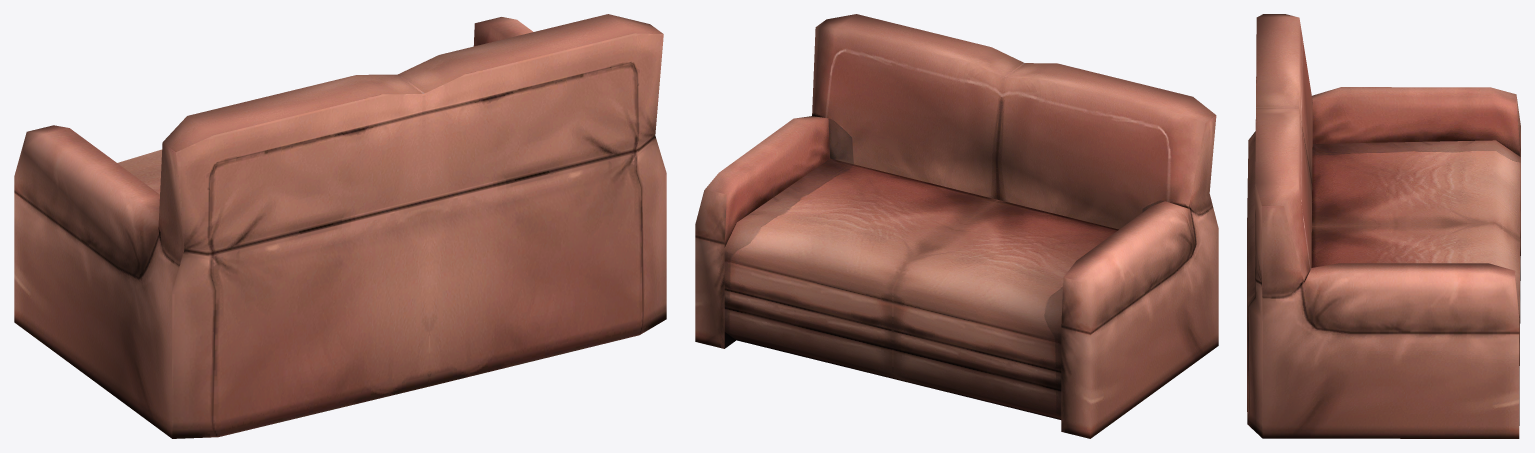
3 views of the same model, side by side, from view 1: azimuth 30°, elevation 25°; view 2: azimuth 150°, elevation 25°; view 3: azimuth 270°, elevation 25° (orthographic). The views are drawn at different scales.
Parts seen in each view (by area): view 1: Box06; view 2: Box06; view 3: Box06.
Boxes of the visible parts, box(x1,y1,x2,y2) form: Box06: box(14, 14, 666, 438); Box06: box(695, 14, 1218, 438); Box06: box(1247, 14, 1520, 438).
Bounding box in the file's own units: 81.35 × 46.89 × 48.3.
Materials: 1 (1 with a texture image).
